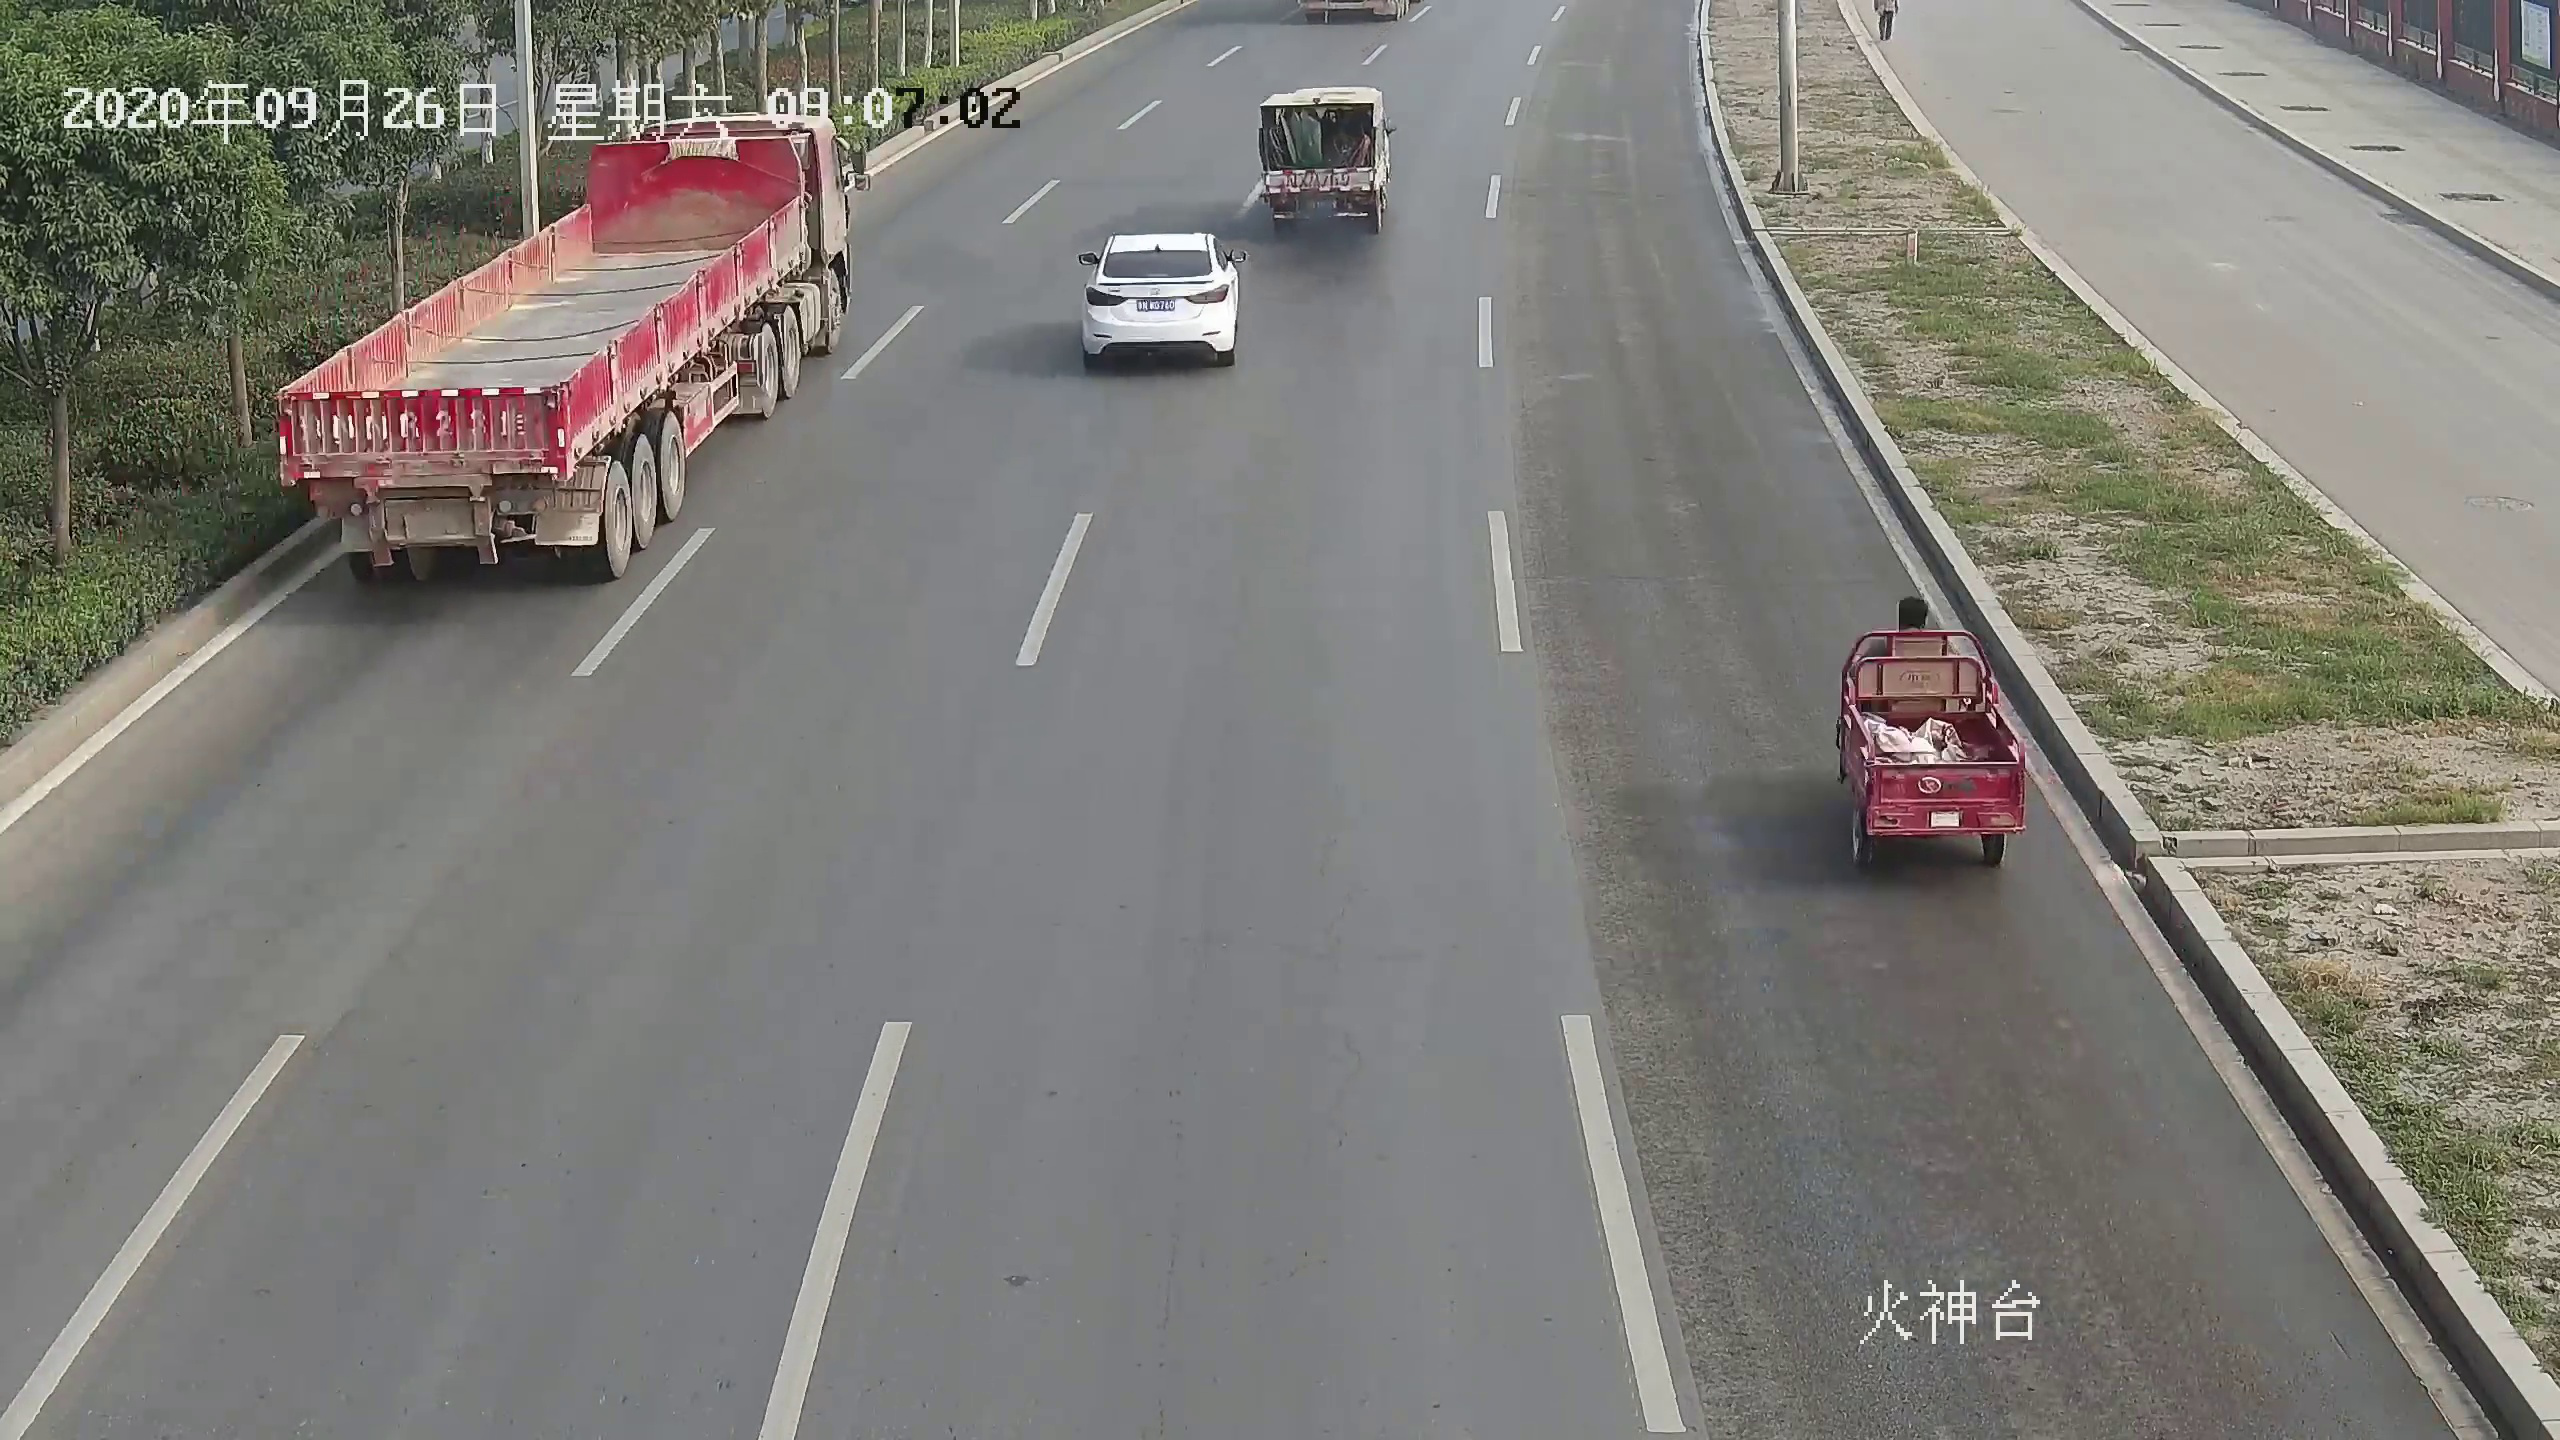normal: (294, 390, 628, 563), (1867, 663, 2001, 840), (1101, 251, 1231, 357)
smoky: (1269, 98, 1375, 264)
